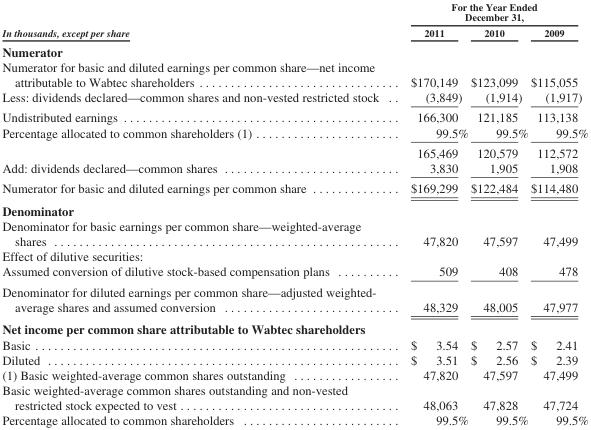table: (1, 0, 587, 427)
table column: (1, 0, 394, 427), (394, 0, 468, 427), (468, 0, 528, 427), (528, 0, 587, 427)
table column header: (1, 0, 587, 40)
table projected row header: (1, 198, 587, 218), (1, 317, 587, 336), (1, 40, 587, 58), (1, 248, 587, 263)
table row: (1, 281, 587, 317), (1, 58, 587, 89), (1, 218, 587, 248), (1, 382, 587, 412), (1, 0, 587, 24), (1, 177, 587, 198), (1, 198, 587, 218), (1, 317, 587, 336), (1, 40, 587, 58), (1, 106, 587, 124), (1, 124, 587, 142), (1, 142, 587, 160), (1, 263, 587, 281), (1, 89, 587, 106), (1, 160, 587, 177), (1, 24, 587, 40), (1, 351, 587, 367), (1, 248, 587, 263), (1, 336, 587, 351), (1, 367, 587, 382), (1, 412, 587, 427)
table spanning cell: (1, 0, 394, 40), (394, 0, 587, 24)
